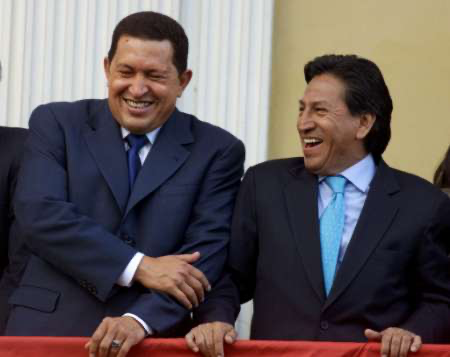Face: (106, 42, 177, 129), (294, 89, 355, 175)
